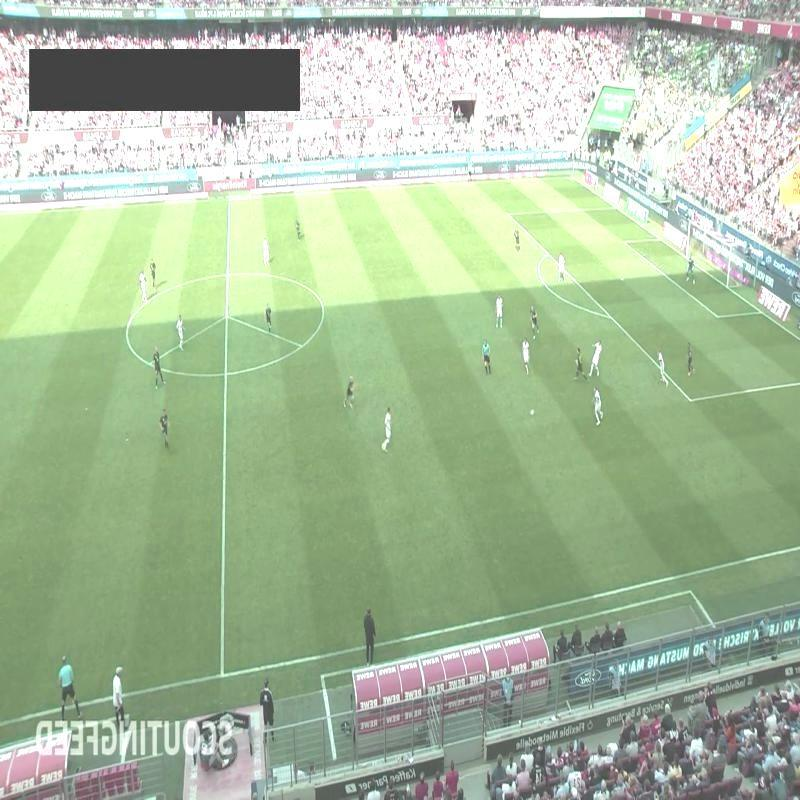1: (566, 170, 580, 184)
10: (541, 247, 555, 260)
11: (604, 310, 618, 324)
12: (684, 392, 698, 406)
13: (222, 192, 236, 206)
14: (221, 268, 235, 282)
15: (218, 368, 232, 382)
16: (214, 665, 231, 686)
2: (610, 201, 624, 215)
3: (654, 233, 668, 246)
4: (754, 306, 768, 320)
7: (617, 235, 631, 249)
8: (710, 310, 724, 324)
9: (502, 206, 516, 220)
c: (121, 320, 135, 334), (316, 300, 330, 313)
